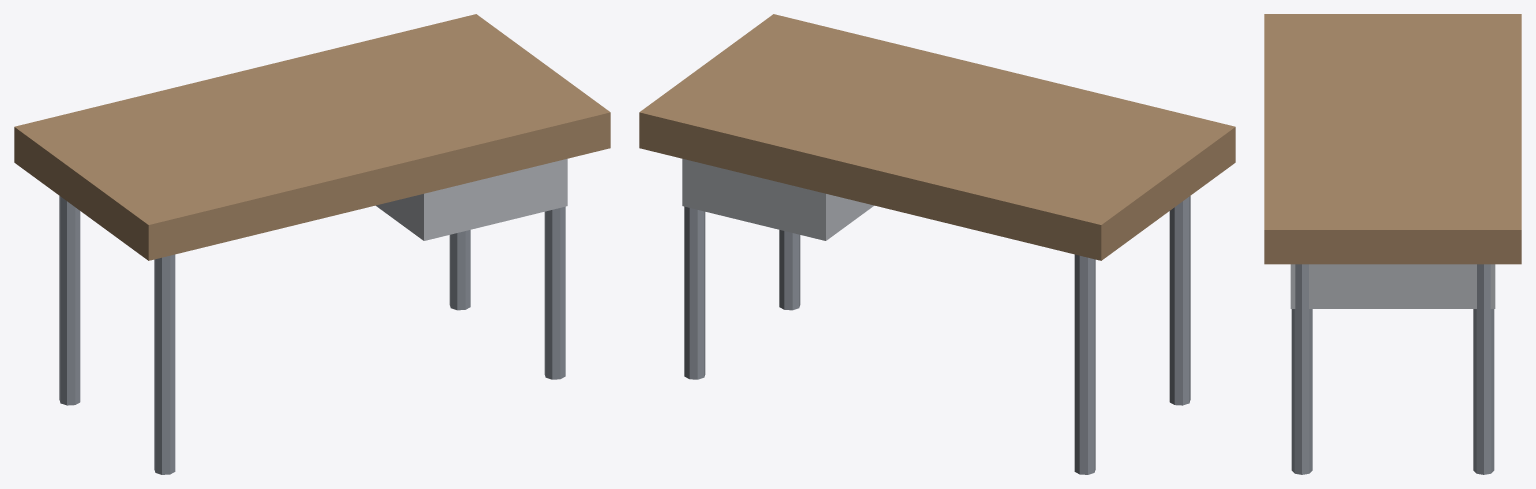
3 views of the same model, side by side, from view 1: azimuth 30°, elevation 25°; view 2: azimuth 150°, elevation 25°; view 3: azimuth 270°, elevation 25° (orthographic). The views are drawn at different scales.
Visible parts, largest first — view 1: Top, Drawer, Leg.2, Leg.1, Leg.4, Leg.3; view 2: Top, Drawer, Leg.1, Leg.2, Leg.3, Leg.4; view 3: Top, Drawer, Leg.3, Leg.4.
Part boxes in pixels (<box>): Top: <box>14,14,610,260</box>; Drawer: <box>376,158,567,240</box>; Leg.2: <box>154,254,175,474</box>; Leg.1: <box>59,196,80,405</box>; Leg.4: <box>544,206,565,379</box>; Leg.3: <box>449,230,470,310</box>; Top: <box>639,14,1235,260</box>; Drawer: <box>682,158,873,240</box>; Leg.1: <box>1074,254,1095,474</box>; Leg.2: <box>1169,196,1190,405</box>; Leg.3: <box>684,206,705,379</box>; Leg.4: <box>779,230,800,310</box>; Top: <box>1264,14,1521,264</box>; Drawer: <box>1290,264,1495,308</box>; Leg.3: <box>1473,264,1494,474</box>; Leg.4: <box>1291,264,1312,474</box>.
Size of the model in its own units: 1.35 by 0.75 by 0.68.
